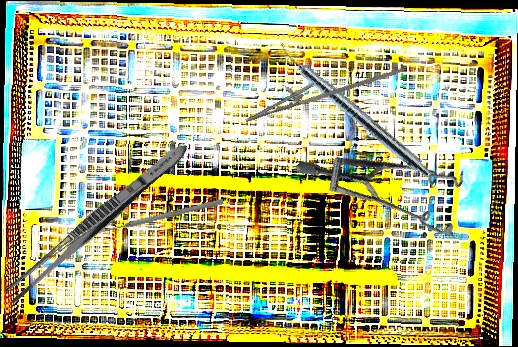Dressing Forceps: (1, 137, 193, 308)
Handpiece: (273, 40, 435, 180)
Needle Holder: (239, 37, 406, 142)
Pusher: (93, 197, 225, 237)
Speculum: (293, 85, 489, 283)
